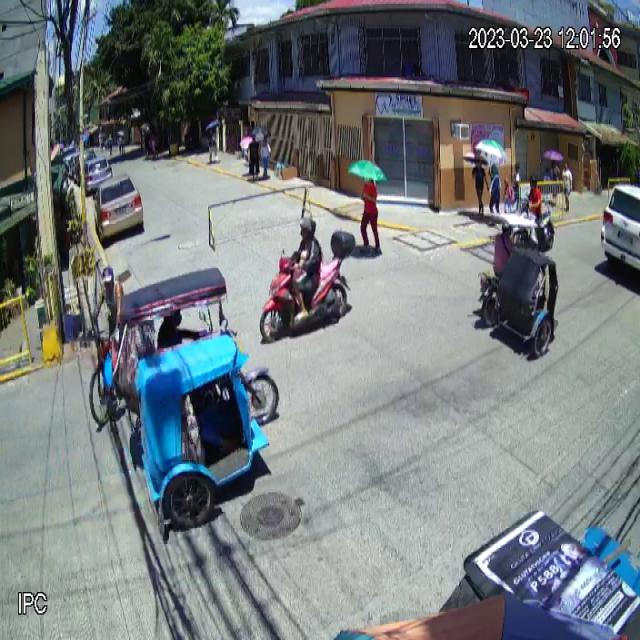Motorcycle: (256, 229, 356, 344)
Tricycle: (116, 266, 278, 533), (476, 208, 559, 360)
